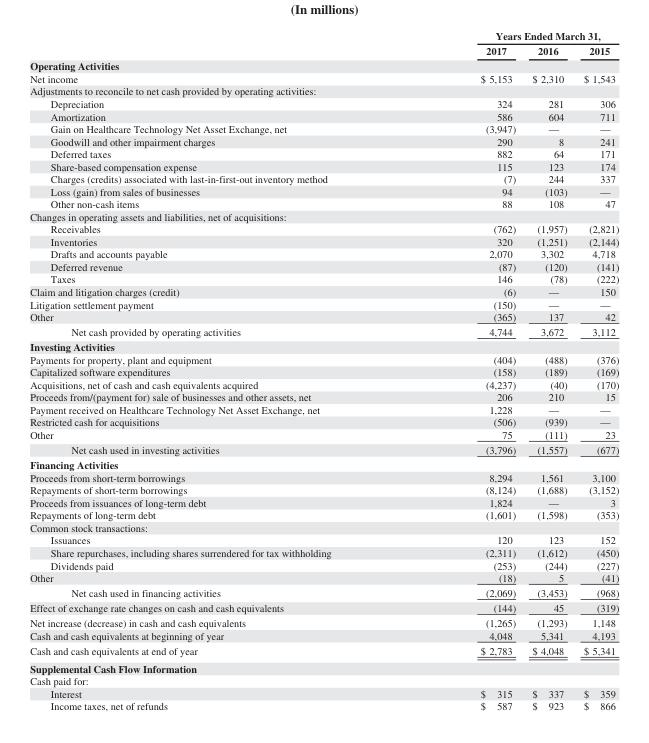table: (29, 29, 618, 711)
table column: (29, 29, 405, 711), (405, 29, 523, 711), (523, 29, 574, 711), (574, 29, 618, 711)
table column header: (29, 29, 618, 58)
table projected row header: (29, 659, 618, 674), (29, 58, 618, 72), (29, 339, 618, 353), (29, 457, 618, 471), (29, 84, 618, 97), (29, 674, 618, 687), (29, 210, 618, 222), (29, 521, 618, 533)
table row: (29, 642, 618, 659), (29, 42, 618, 58), (29, 324, 618, 339), (29, 442, 618, 457), (29, 585, 618, 600), (29, 600, 618, 615), (29, 659, 618, 674), (29, 58, 618, 72), (29, 310, 618, 324), (29, 339, 618, 353), (29, 428, 618, 442), (29, 457, 618, 471), (29, 571, 618, 585), (29, 615, 618, 629), (29, 29, 618, 42), (29, 84, 618, 97), (29, 109, 618, 122), (29, 134, 618, 147), (29, 159, 618, 172), (29, 184, 618, 197), (29, 197, 618, 210), (29, 222, 618, 235), (29, 247, 618, 260), (29, 272, 618, 285), (29, 297, 618, 310), (29, 365, 618, 378), (29, 390, 618, 403), (29, 415, 618, 428), (29, 483, 618, 496), (29, 508, 618, 521), (29, 533, 618, 546), (29, 558, 618, 571), (29, 629, 618, 642), (29, 674, 618, 687), (29, 72, 618, 84), (29, 97, 618, 109), (29, 122, 618, 134), (29, 147, 618, 159), (29, 172, 618, 184), (29, 210, 618, 222), (29, 235, 618, 247), (29, 260, 618, 272), (29, 285, 618, 297), (29, 353, 618, 365), (29, 378, 618, 390), (29, 403, 618, 415), (29, 471, 618, 483), (29, 496, 618, 508), (29, 521, 618, 533), (29, 546, 618, 558), (29, 687, 618, 699), (29, 699, 618, 711)
table spanning cell: (405, 29, 618, 42)
